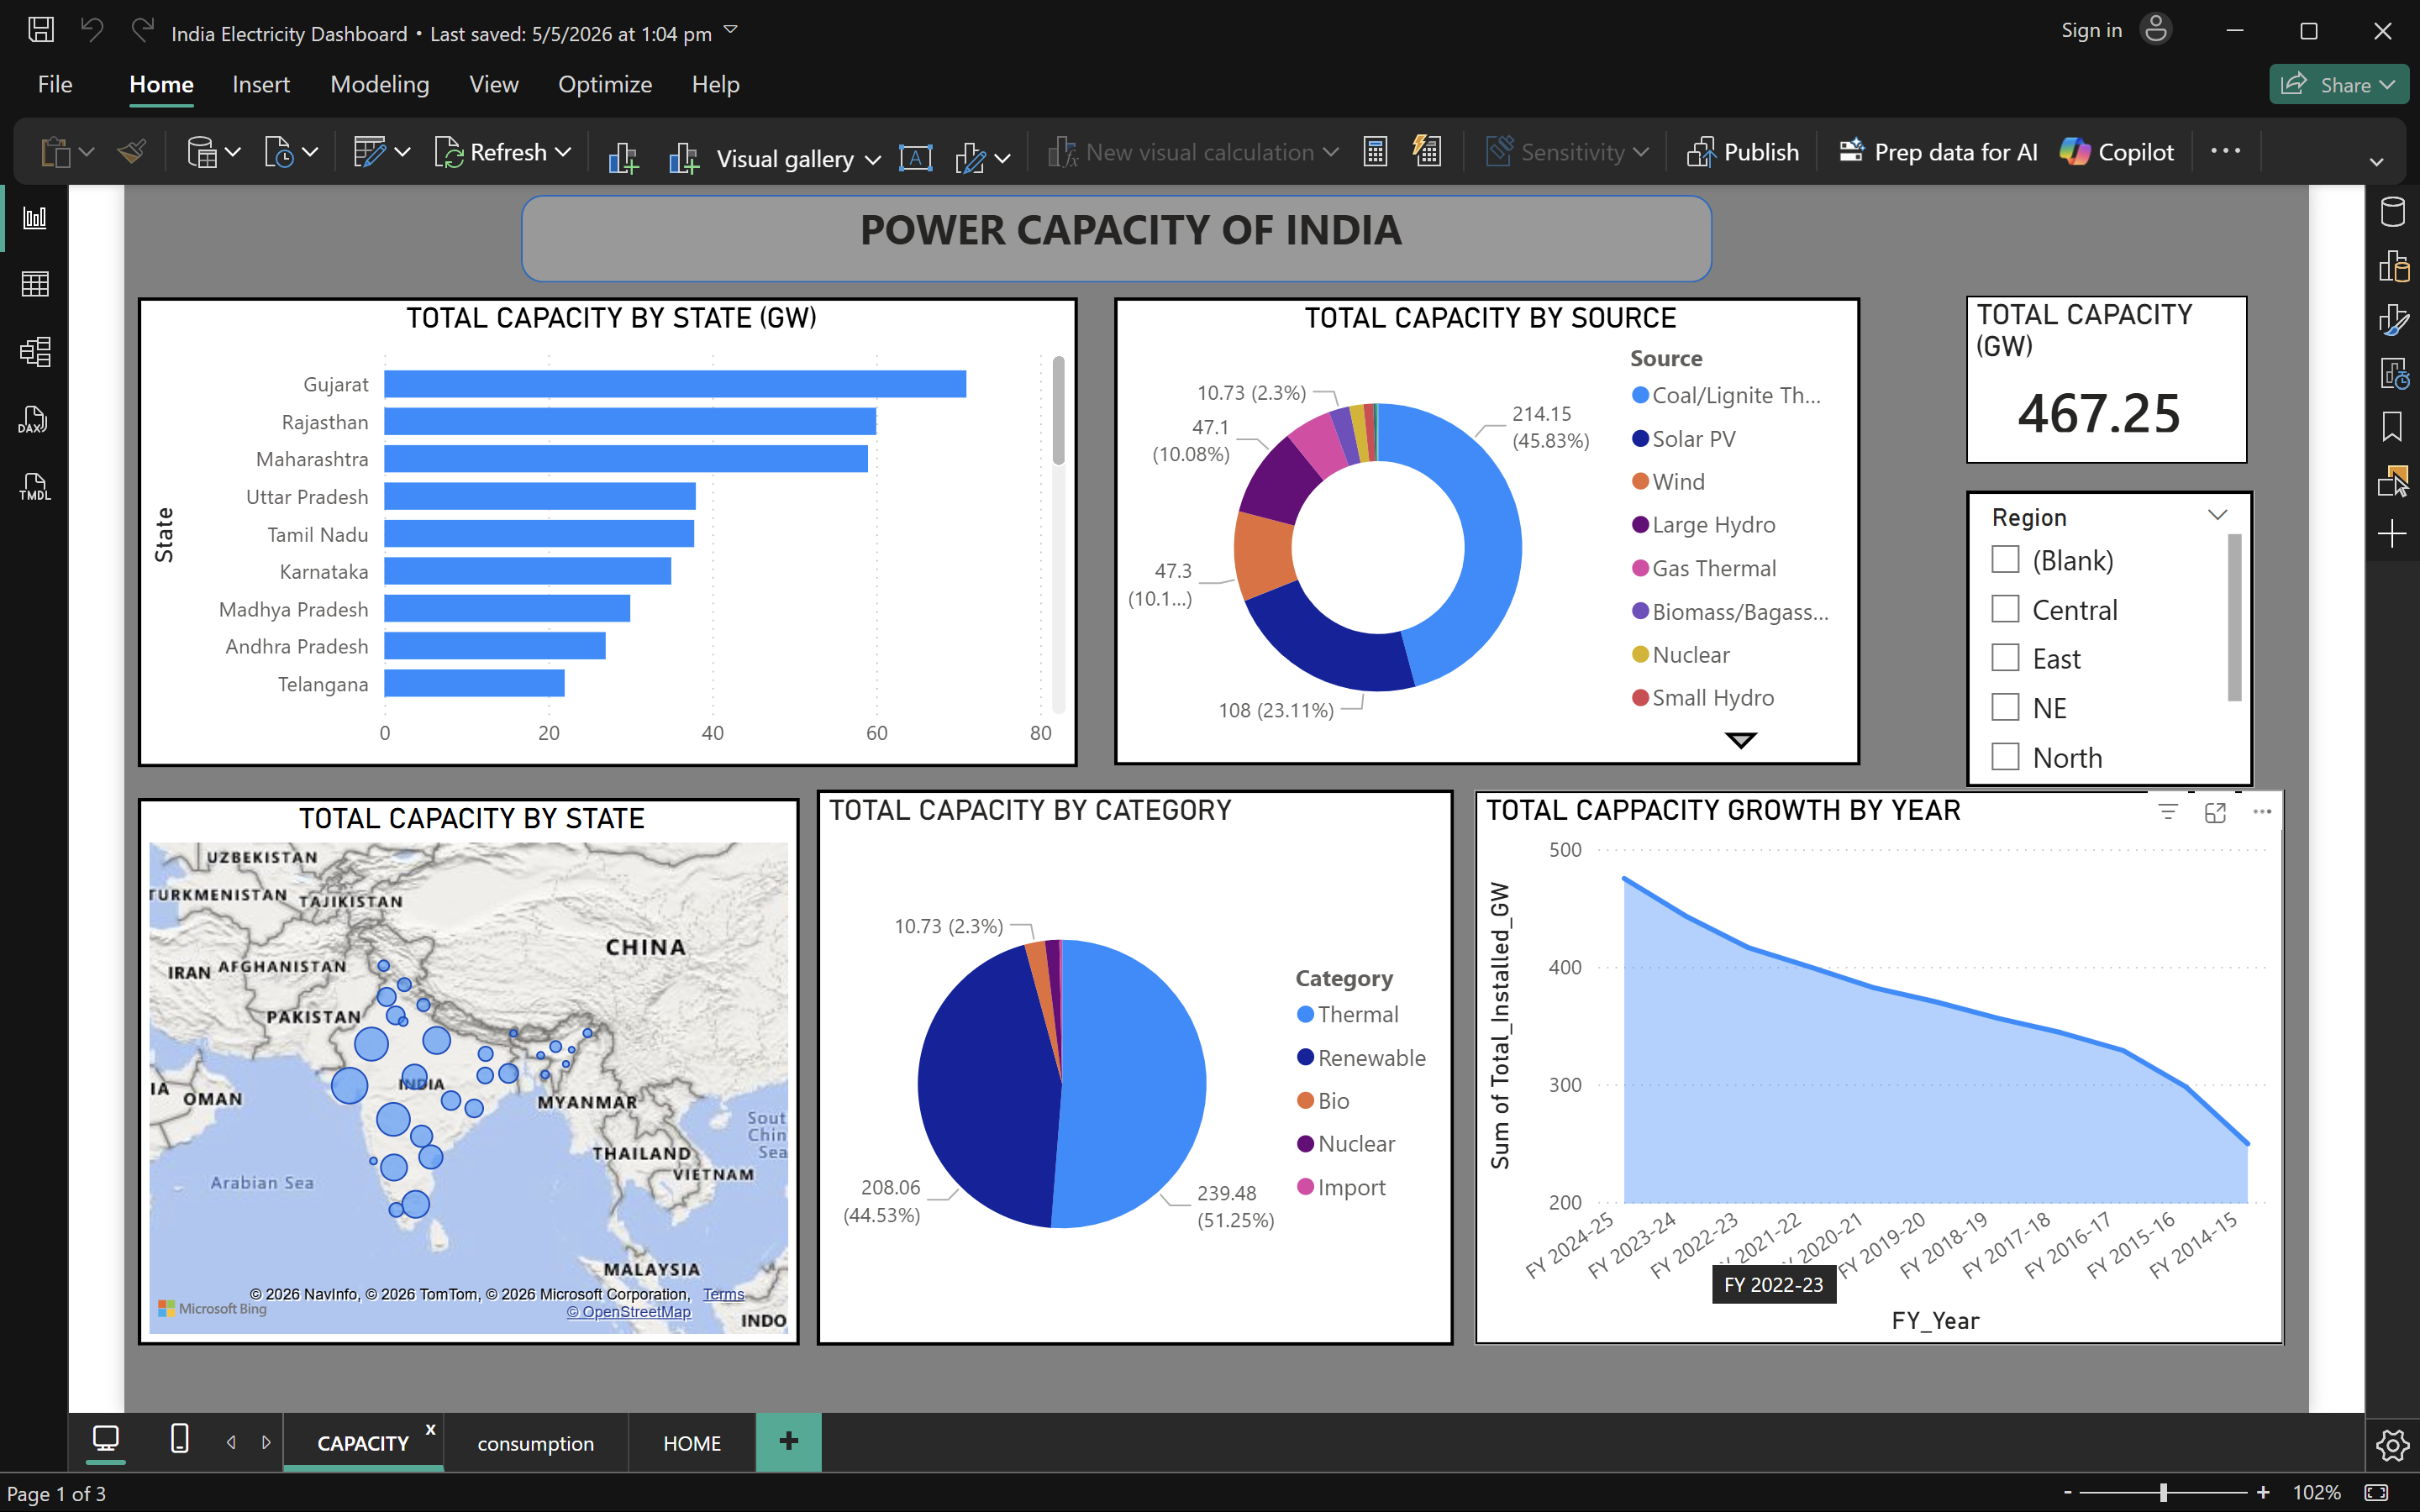

Layout of this report page (visuals, bound fields, positions):
{"tool":"powerbi","page":{"name":"CAPACITY","canvas":[1280,720],"ordinal":0},"visuals":[{"type":"shape","box":[232,6.4,698.5,51.5],"z":0,"group":"g1"},{"type":"map","title":"TOTAL CAPACITY BY STATE","fields":{"Category":["State_Capacity.State"],"Size":["Sum(State_Capacity.Total_Capacity_GW)"]},"box":[7.6,359.7,387.8,320.8],"z":0},{"type":"textbox","box":[290.2,4,582.2,43],"z":1000,"group":"g1"},{"type":"barChart","title":"TOTAL CAPACITY BY STATE (GW)","fields":{"Y":["Sum(State_Capacity.Total_Capacity_GW)"],"Category":["State_Capacity.State"]},"box":[7.6,65.9,550.9,275.4],"z":1000},{"type":"donutChart","title":"TOTAL CAPACITY BY SOURCE","fields":{"Y":["Sum(National_Capacity.Installed_Capacity_GW)"],"Category":["National_Capacity.Source"]},"box":[580.1,65.9,437.5,274.4],"z":2000},{"type":"pieChart","title":"TOTAL CAPACITY BY CATEGORY","fields":{"Category":["National_Capacity.Category"],"Y":["Sum(National_Capacity.Installed_Capacity_GW)"]},"box":[406.1,354.3,373.7,326.2],"z":3000},{"type":"areaChart","title":"TOTAL CAPPACITY GROWTH BY YEAR","fields":{"Category":["Annual_Trend.FY_Year"],"Y":["Sum(Annual_Trend.Total_Installed_GW)"]},"box":[790.7,354.3,475.3,326.2],"z":4000},{"type":"slicer","fields":{"Values":["State_Capacity.Region"]},"box":[1079.5,179.2,168.5,173.8],"z":5000},{"type":"group","id":"g1","title":"Group 1","box":[232,4,698.5,53.9],"z":8000},{"type":"cardVisual","title":"TOTAL CAPACITY (GW)","fields":{"Data":["Sum(National_Capacity.Installed_Capacity_GW)"]},"box":[1079.5,65.5,165.2,98.7],"z":9000}]}

Visuals, with their boxes on the page's 1280x720 design canvas (x1, y1, x2, y2). These are canvas units, not pixel positions in the 2420x1512 screenshot, which may show the page scaled, cropped or inside an application window:
shape: <box>232,6,930,58</box>
"TOTAL CAPACITY BY STATE" map: <box>8,360,395,680</box>
textbox: <box>290,4,872,47</box>
"TOTAL CAPACITY BY STATE (GW)" barChart: <box>8,66,558,341</box>
"TOTAL CAPACITY BY SOURCE" donutChart: <box>580,66,1018,340</box>
"TOTAL CAPACITY BY CATEGORY" pieChart: <box>406,354,780,680</box>
"TOTAL CAPPACITY GROWTH BY YEAR" areaChart: <box>791,354,1266,680</box>
slicer - State_Capacity.Region: <box>1080,179,1248,353</box>
"Group 1" group: <box>232,4,930,58</box>
"TOTAL CAPACITY (GW)" cardVisual: <box>1080,66,1245,164</box>
